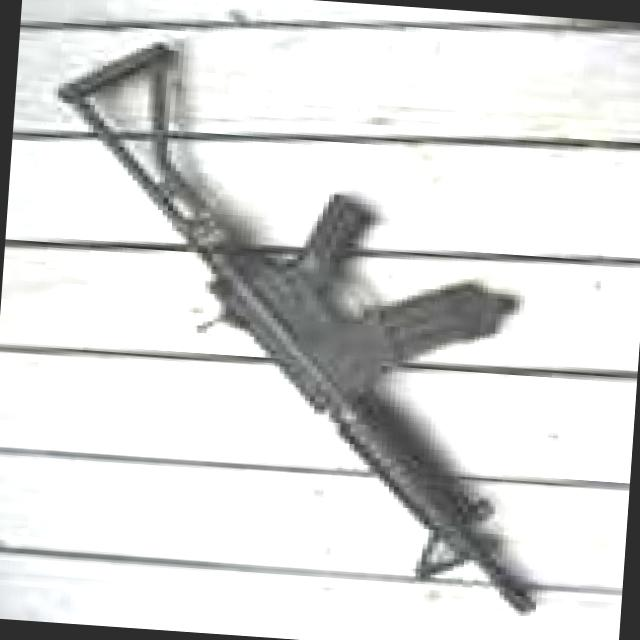long weapon: (14, 31, 586, 626)
